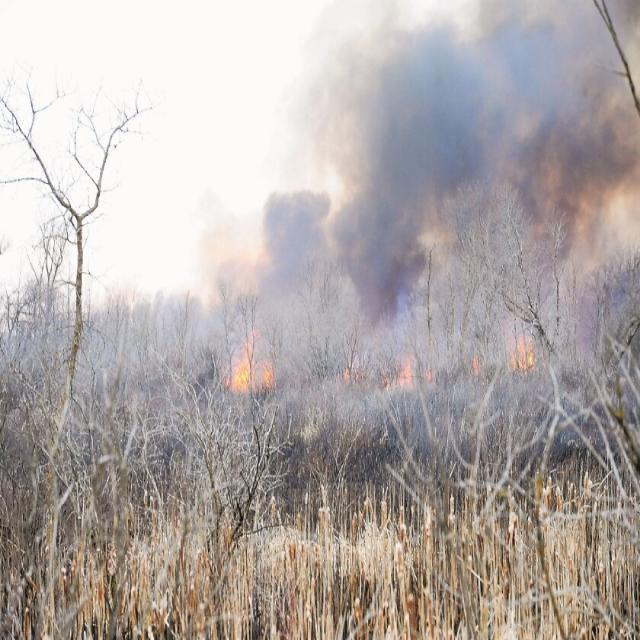Smoke: (96, 0, 639, 458)
